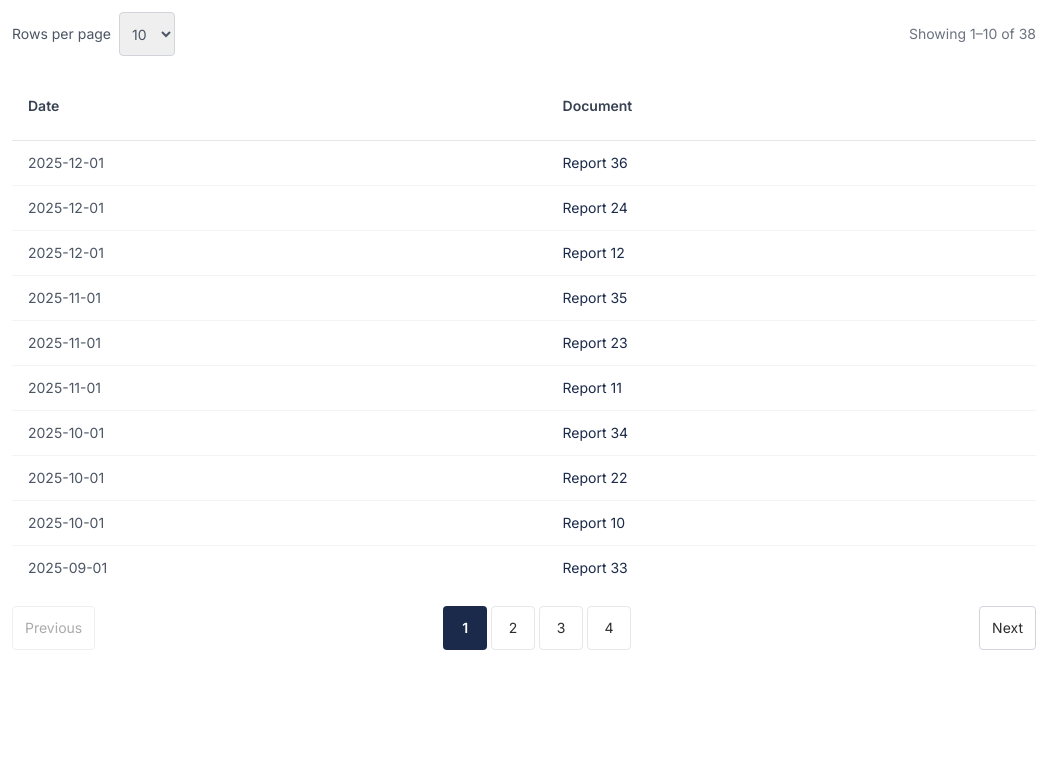
Test: ReportsTable › slides the page-number window only when there are more than 5 pages
Select "5" in the dropdown at x=147, y=34, box [119, 12, 175, 56]
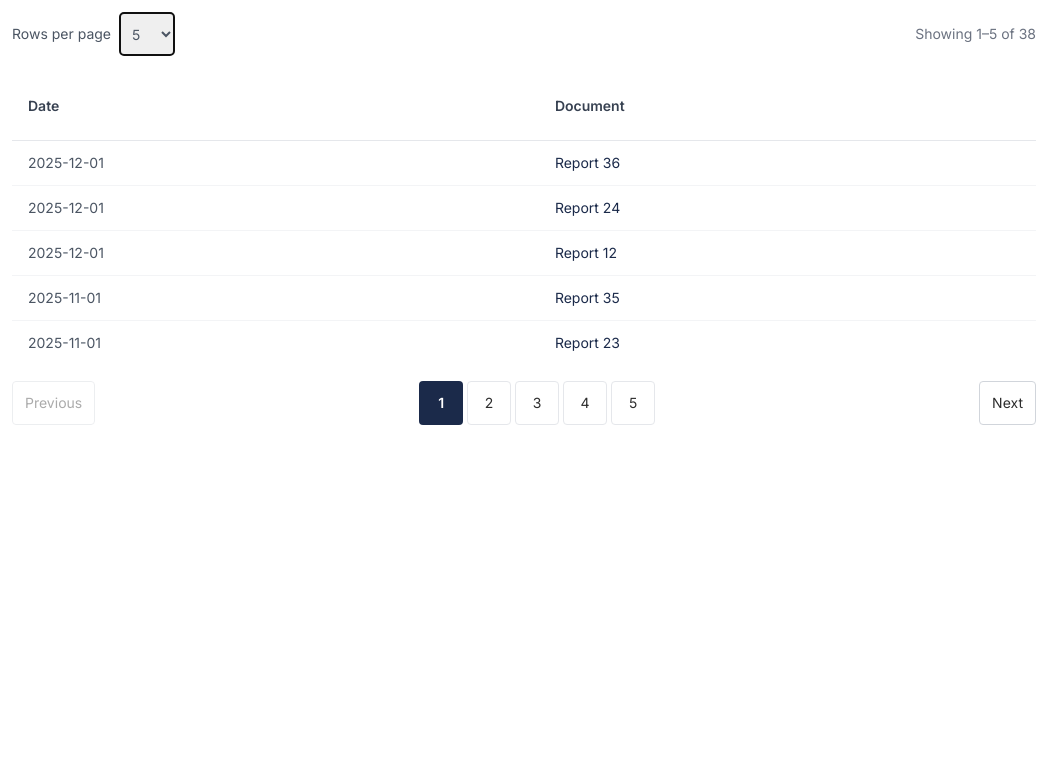
Check: the button named "Page 1" is shown, box [419, 381, 463, 425]
Click the button named "Page 5" at x=633, y=403, box [611, 381, 655, 425]
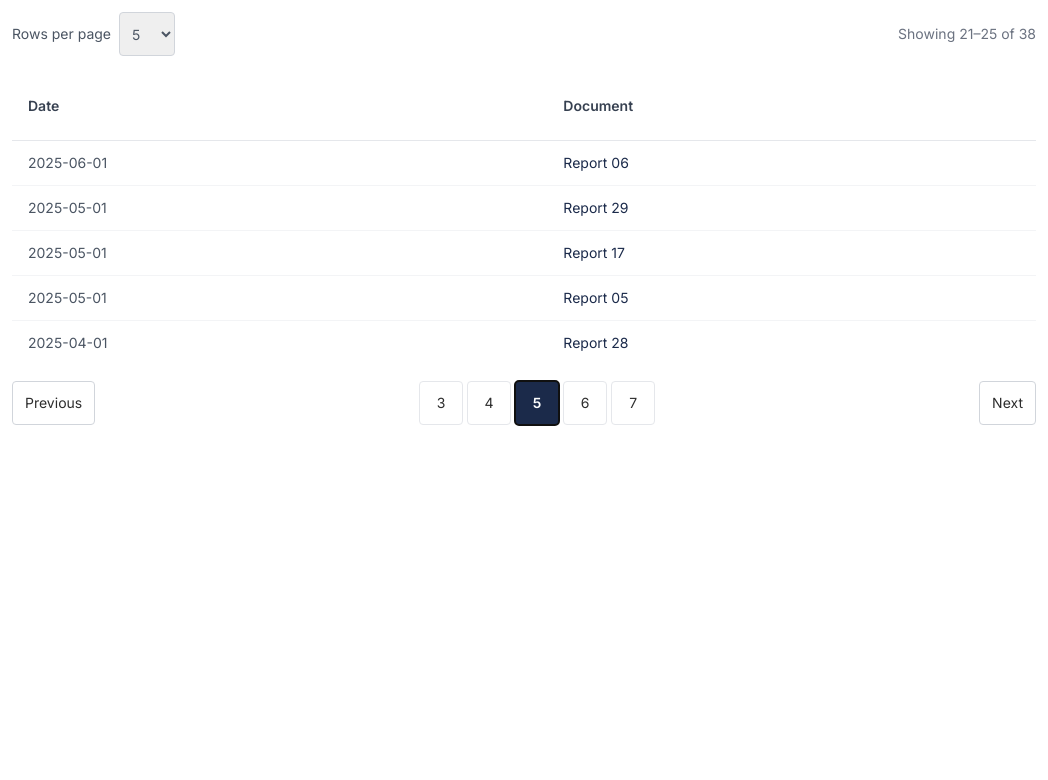
Click the button named "Page 7" at x=633, y=403, box [611, 381, 655, 425]
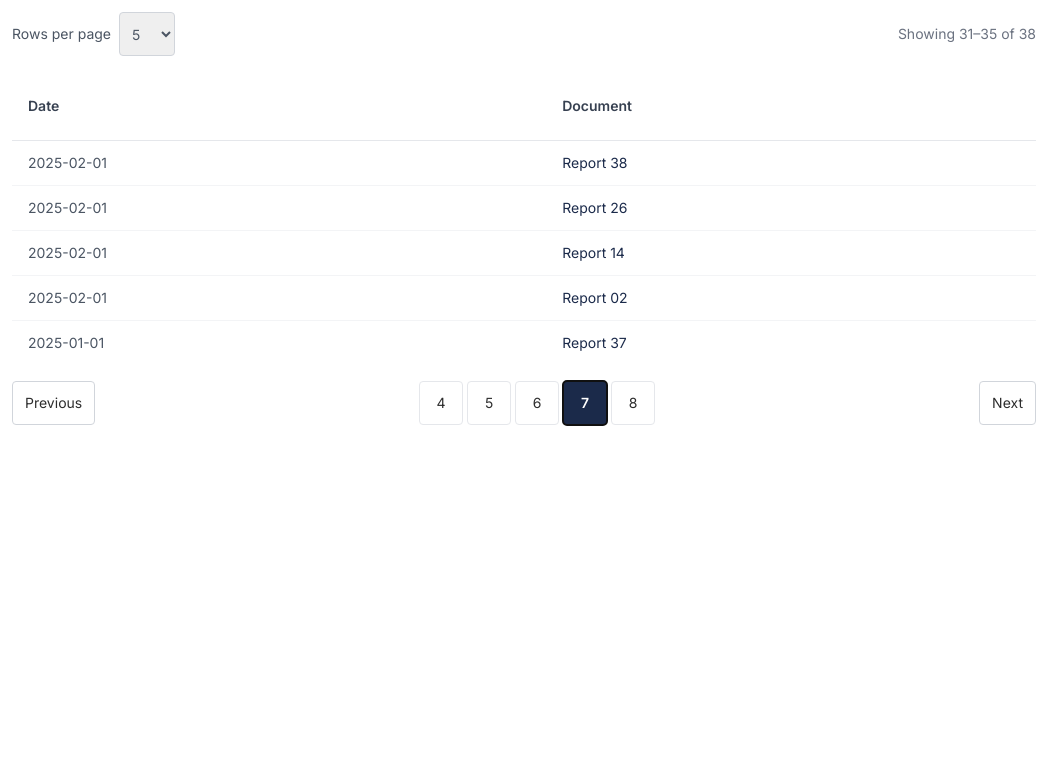
Check: the button named "Page 4" is shown, box [419, 381, 463, 425]
Check: the button named "Page 8" is shown, box [611, 381, 655, 425]
